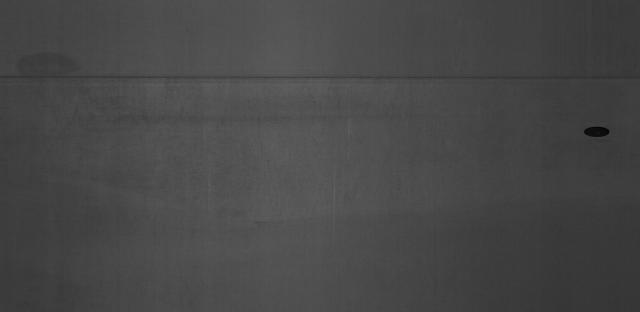punching_hole: (583, 124, 614, 141)
welding_line: (0, 67, 634, 91)
